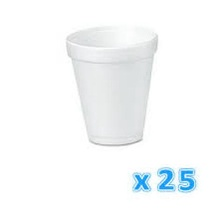paper_cup: (60, 20, 161, 150)
